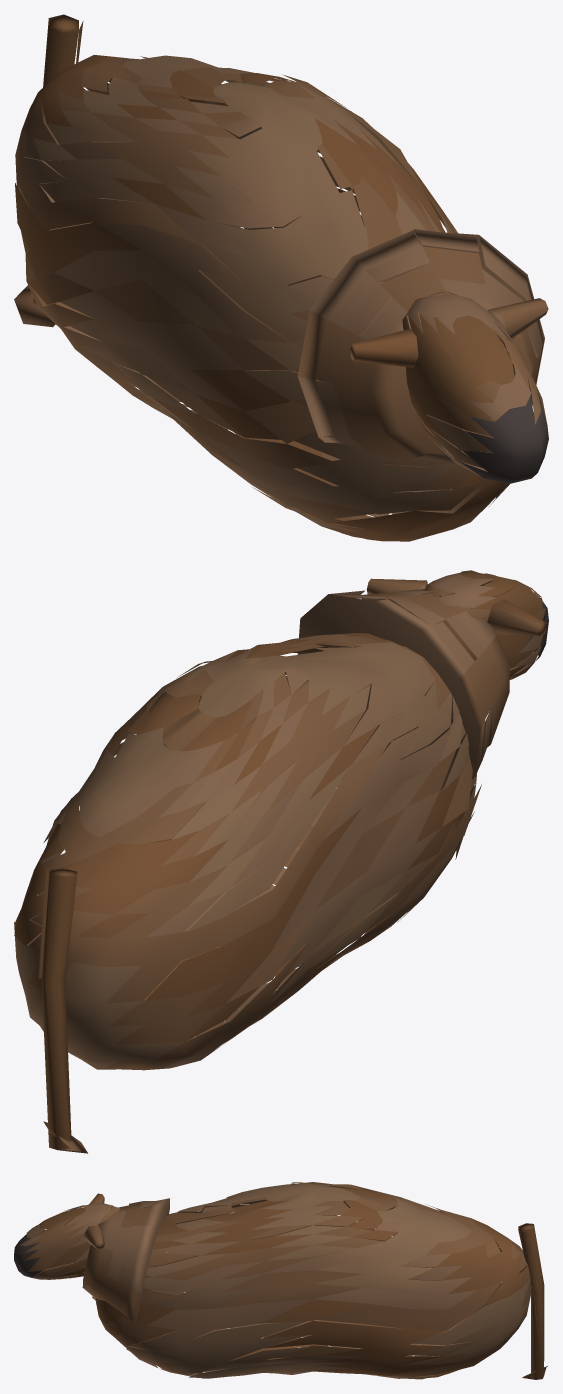
Rendered from animal.farm.cow_lie_1.glb.
The picture shows the model from 3 angles, top to bottom: view 1: azimuth 30°, elevation 25°; view 2: azimuth 150°, elevation 25°; view 3: azimuth 270°, elevation 25°; orthographic projection. The views are drawn at different scales.
Visible parts, largest first — view 1: main__fabric_753, main__fabric_754, main__fabric_764, main__fabric_743, main__fabric_643, main__fabric_864, main__fabric_433, main__fabric_642, main__fabric_653; view 2: main__fabric_753, main__fabric_764, main__fabric_754, main__fabric_743, main__fabric_864, main__fabric_642, main__fabric_643; view 3: main__fabric_753, main__fabric_764, main__fabric_754, main__fabric_743, main__fabric_643, main__fabric_864, main__fabric_642, main__fabric_433, main__fabric_653.
Boxes of the visible parts, box(x1,y1,x2,y2) form: main__fabric_753: box(15, 57, 548, 540); main__fabric_754: box(22, 58, 548, 532); main__fabric_764: box(19, 55, 509, 522); main__fabric_743: box(15, 55, 504, 541); main__fabric_643: box(76, 21, 534, 445); main__fabric_864: box(297, 230, 544, 467); main__fabric_433: box(458, 389, 548, 483); main__fabric_642: box(33, 14, 78, 304); main__fabric_653: box(14, 285, 55, 327); main__fabric_753: box(28, 570, 545, 1153); main__fabric_764: box(14, 634, 477, 1068); main__fabric_754: box(27, 573, 546, 1069); main__fabric_743: box(14, 586, 546, 1041); main__fabric_864: box(297, 590, 497, 789); main__fabric_642: box(41, 868, 77, 1150); main__fabric_643: box(38, 572, 542, 1139); main__fabric_753: box(23, 1182, 530, 1379); main__fabric_764: box(126, 1183, 530, 1378); main__fabric_754: box(20, 1182, 501, 1378); main__fabric_743: box(64, 1187, 528, 1377); main__fabric_643: box(35, 1206, 542, 1379); main__fabric_864: box(92, 1198, 169, 1322); main__fabric_642: box(518, 1223, 544, 1378); main__fabric_433: box(14, 1234, 43, 1277); main__fabric_653: box(522, 1286, 547, 1379).
Bounding box in the file's own units: 0.689 × 0.9313 × 2.34.
